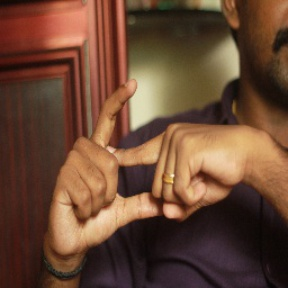E: (86, 77, 182, 224)
